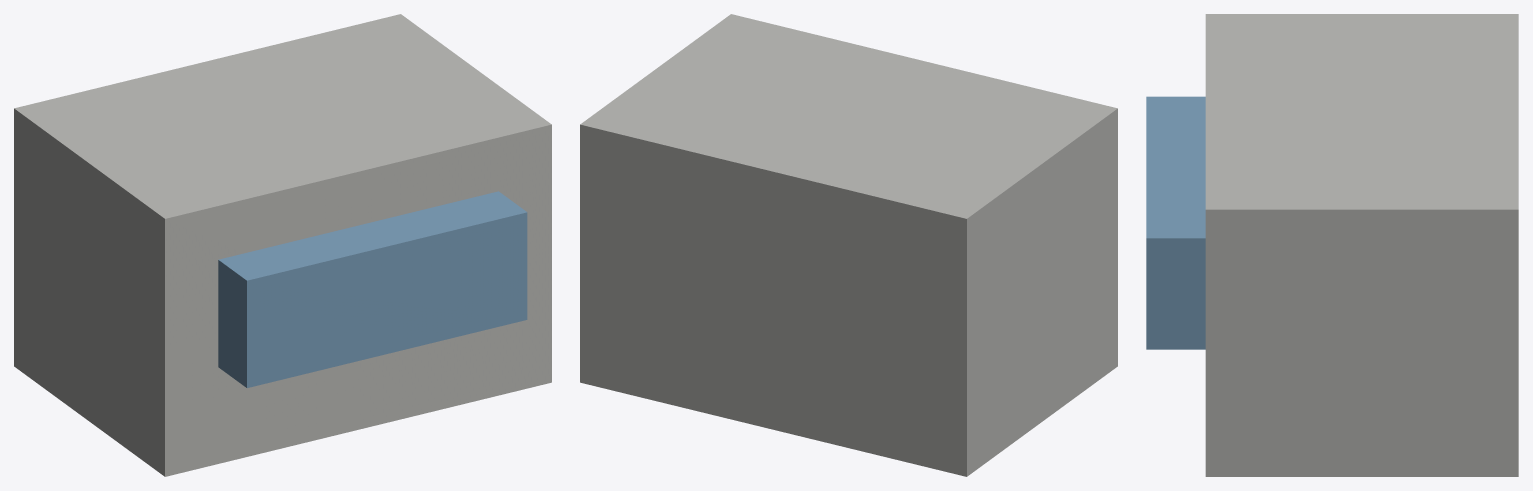
File: tee_marker_03.glb
3 views of the same model, side by side, from view 1: azimuth 30°, elevation 25°; view 2: azimuth 150°, elevation 25°; view 3: azimuth 270°, elevation 25° (orthographic). The views are drawn at different scales.
Visible parts, largest first — view 1: Tee_marker_03; view 2: Tee_marker_03; view 3: Tee_marker_03.
Boxes of the visible parts, x1,y1,x2,y2 form: Tee_marker_03: (14,14,551,476); Tee_marker_03: (580,14,1117,476); Tee_marker_03: (1146,14,1518,476).
Size of the model in its own units: 0.3824 by 0.2438 by 0.3078.
